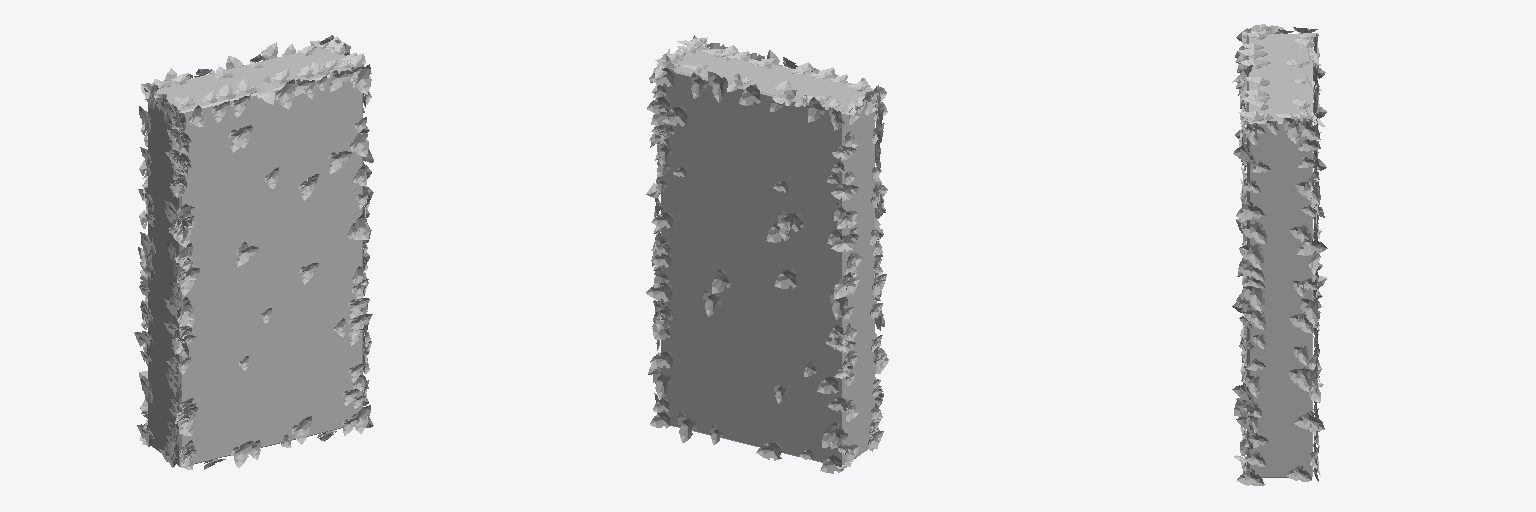
Rendered from Bush Boxwood-Wall-R40427-00 formdecor N190218.obj.
The picture shows the model from 3 angles: view 1: azimuth 30°, elevation 25°; view 2: azimuth 150°, elevation 25°; view 3: azimuth 270°, elevation 25°; orthographic projection.
Parts seen in each view (by area): view 1: _29_15_Gerardo_[number redacted]_2359_pCube1_Boxwood_Wall; view 2: _29_15_Gerardo_[number redacted]_2359_pCube1_Boxwood_Wall; view 3: _29_15_Gerardo_[number redacted]_2359_pCube1_Boxwood_Wall.
Part boxes in pixels (x1,y1,x2,y2): _29_15_Gerardo_[number redacted]_2359_pCube1_Boxwood_Wall: (148, 48, 362, 466); _29_15_Gerardo_[number redacted]_2359_pCube1_Boxwood_Wall: (661, 48, 874, 464); _29_15_Gerardo_[number redacted]_2359_pCube1_Boxwood_Wall: (1247, 34, 1312, 477).
Size of the model in its own units: 150 by 261 by 59.8.